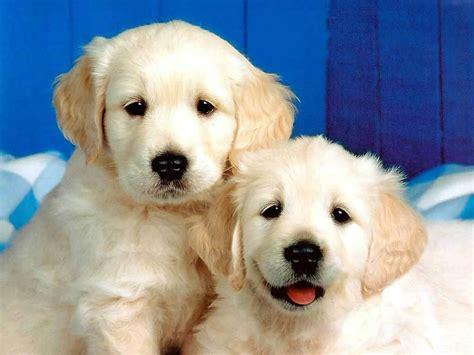dog: (1, 22, 293, 355), (185, 138, 474, 355)
